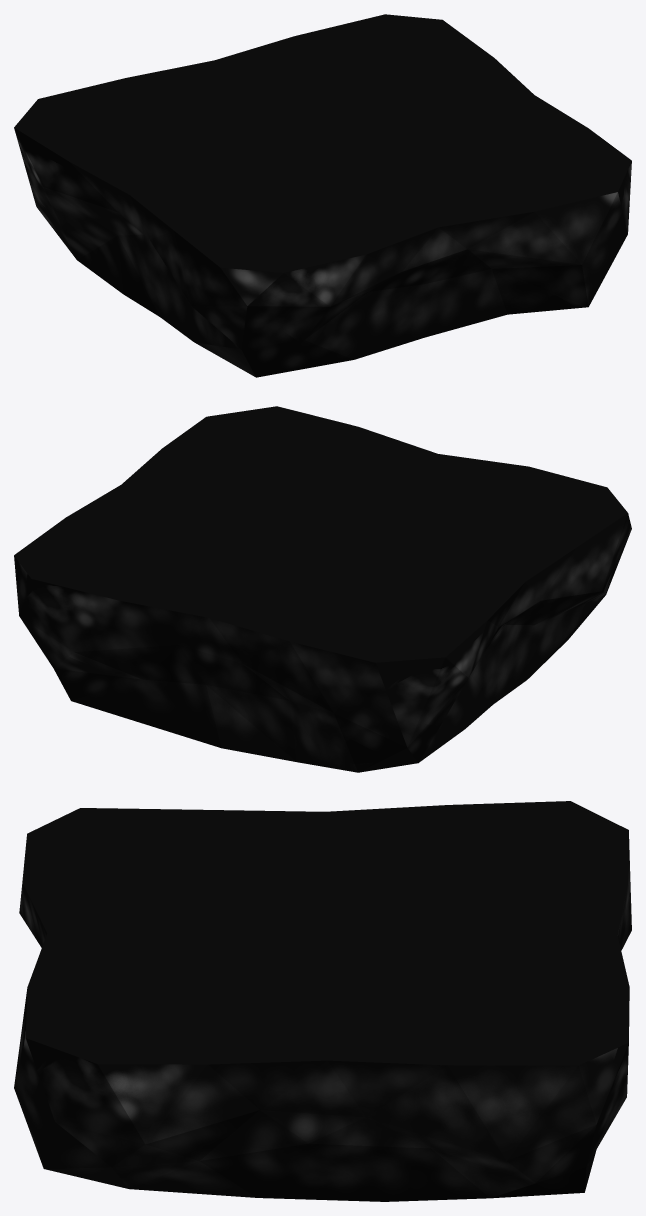
File: IcePlatform02.fbx
The picture shows the model from 3 angles, top to bottom: view 1: azimuth 30°, elevation 25°; view 2: azimuth 150°, elevation 25°; view 3: azimuth 270°, elevation 25°; orthographic projection. The views are drawn at different scales.
Visible parts, largest first — view 1: IcePlatform02; view 2: IcePlatform02; view 3: IcePlatform02.
Part boxes in pixels (x1,y1,x2,y2): IcePlatform02: [14, 14, 631, 377]; IcePlatform02: [14, 406, 631, 772]; IcePlatform02: [14, 801, 631, 1201].
Bounding box in the file's own units: 6.37 × 1.82 × 6.21.
